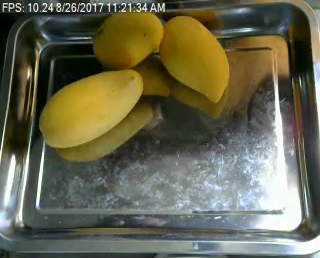Mango: (40, 70, 142, 147), (160, 16, 229, 100), (94, 8, 162, 67)
